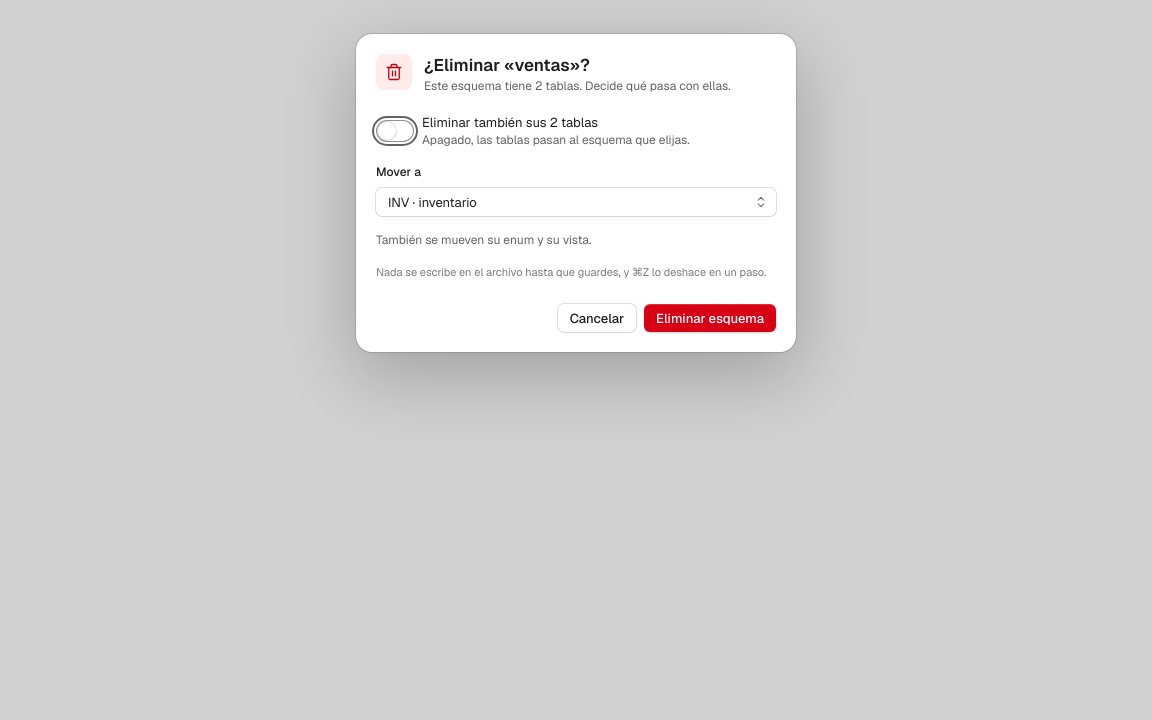
it: DeleteSchemaDialog con tres esquemas o más › encender el interruptor quita el destino y cambia el botón (FR-036)
This screenshot has width=1152, height=720.
Click the switch at {"x": 395, "y": 131}, box x1=376 y1=120 x2=414 y2=142
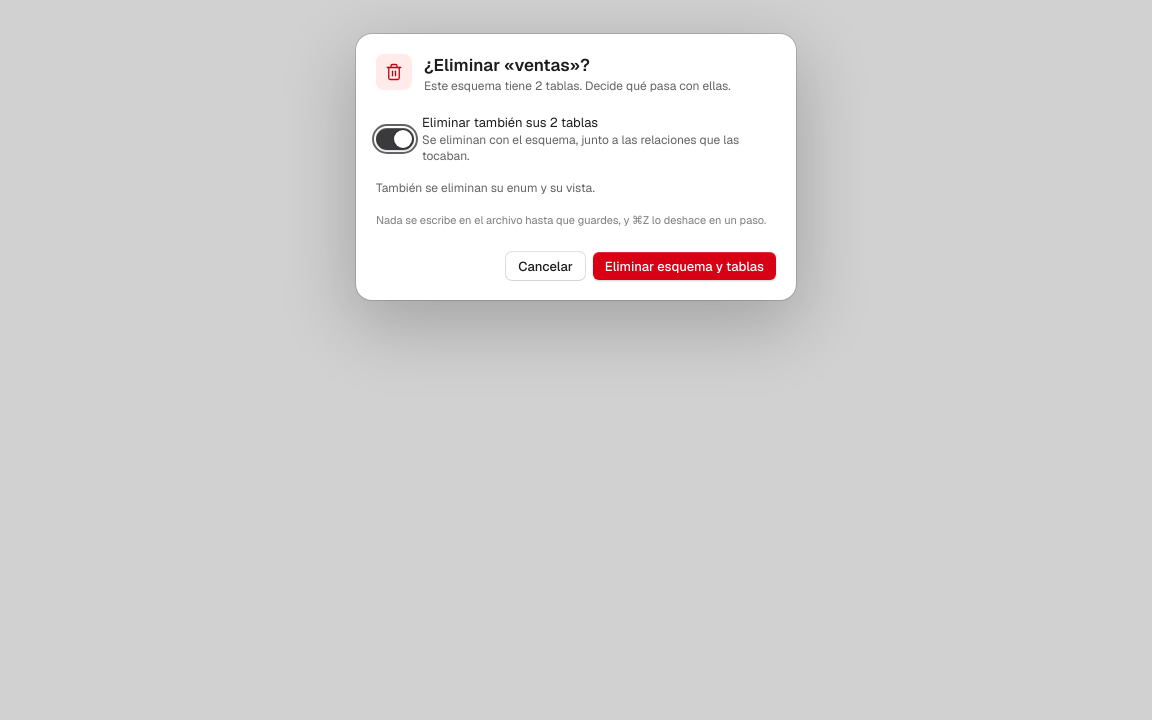
Expected: the dropdown is gone
Expected: the button "Eliminar esquema y tablas" is shown, x1=593 y1=252 x2=776 y2=280
